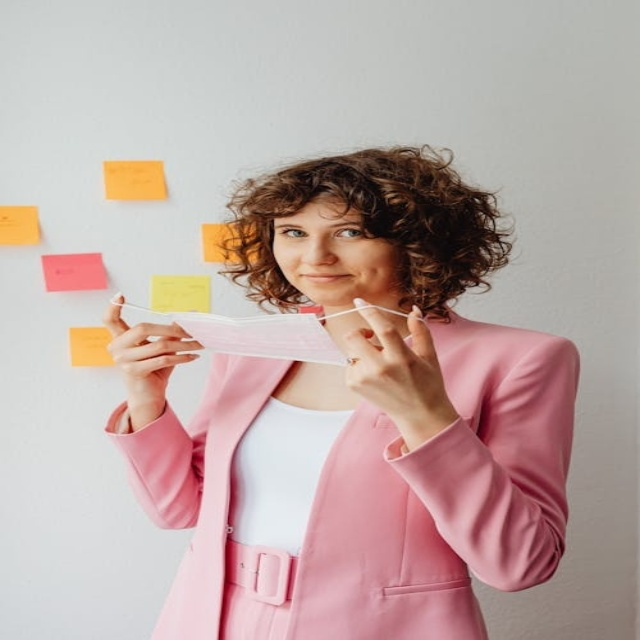Sin_gafas: (271, 218, 364, 247)
Sin_guantes: (327, 294, 452, 423), (101, 291, 203, 400)
Sin_mascara: (287, 267, 360, 300)
